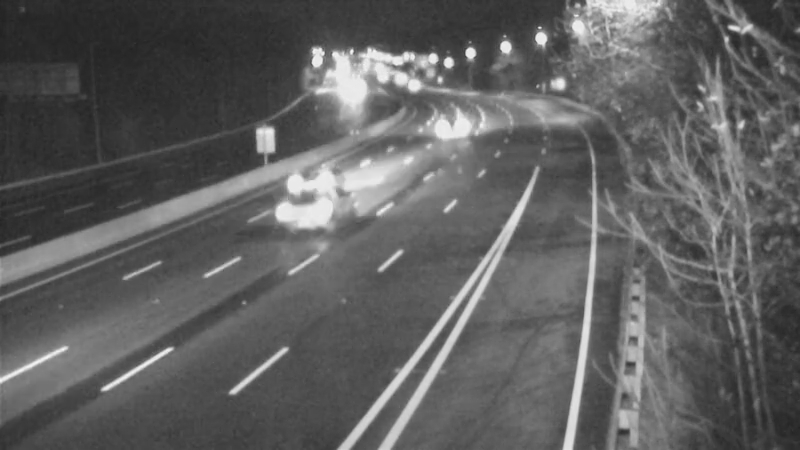vehicle: (265, 133, 345, 213), (258, 174, 338, 254), (377, 58, 427, 108), (390, 61, 440, 111), (438, 96, 488, 146)
